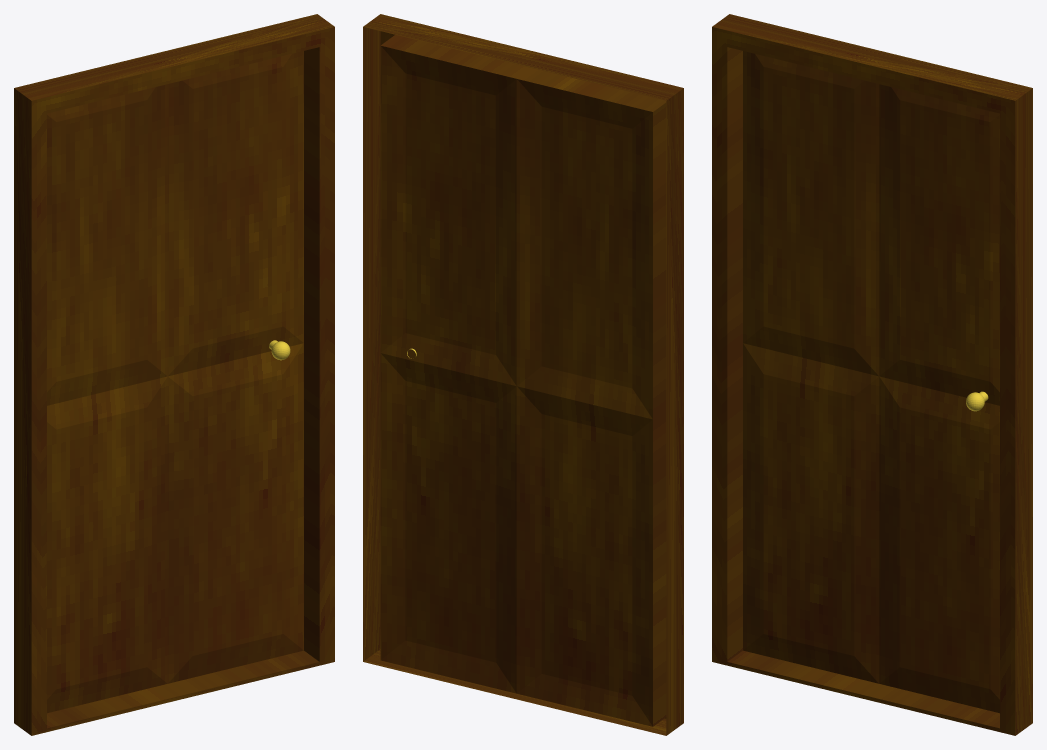
The model's file is door_white.glb.
3 views of the same model, side by side, from view 1: azimuth 30°, elevation 25°; view 2: azimuth 150°, elevation 25°; view 3: azimuth 330°, elevation 25° (orthographic).
Parts seen in each view (by area): view 1: Cylinder; view 2: Cylinder; view 3: Cylinder.
Boxes of the visible parts, bbox=[...] form: Cylinder: bbox=[14, 14, 334, 735]; Cylinder: bbox=[363, 14, 683, 735]; Cylinder: bbox=[712, 14, 1032, 735].
Size of the model in its own units: 2 by 4 by 0.2.
Materials: 2 (1 with a texture image).
